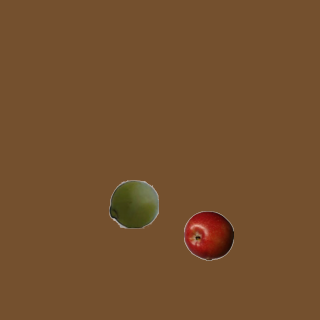Apple Braeburn: (183, 210, 233, 260)
Grape White 4: (108, 178, 158, 228)
